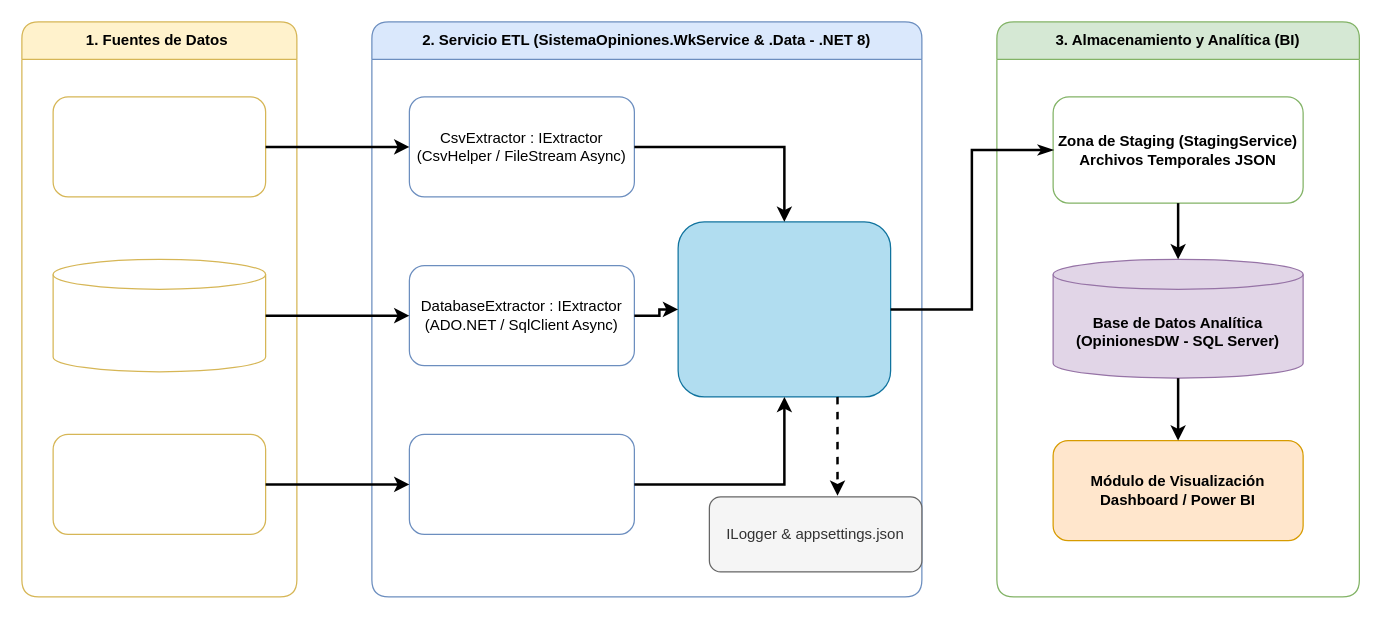
Some shapes in this 1381 by 619 pixel diagram are drawn without their labels. The centre of each missing label's shape, as x and y in pixels:
API REST (.NET 8 Web API) (SistemaOpiniones.Api) Comentarios Redes Sociales: the point at 159,483
ApiExtractor : IExtractor (IHttpClientFactory / JSON): the point at 521,483
Archivos CSV (surveys_part1.csv) Encuestas Internas: the point at 159,146
BD Relacional (SQL Server) (OpinionesDB) Reseñas Web: the point at 159,315
Worker : BackgroundService (Orquestador Asíncrono ETL) + Stopwatch (Métricas): the point at 784,309
